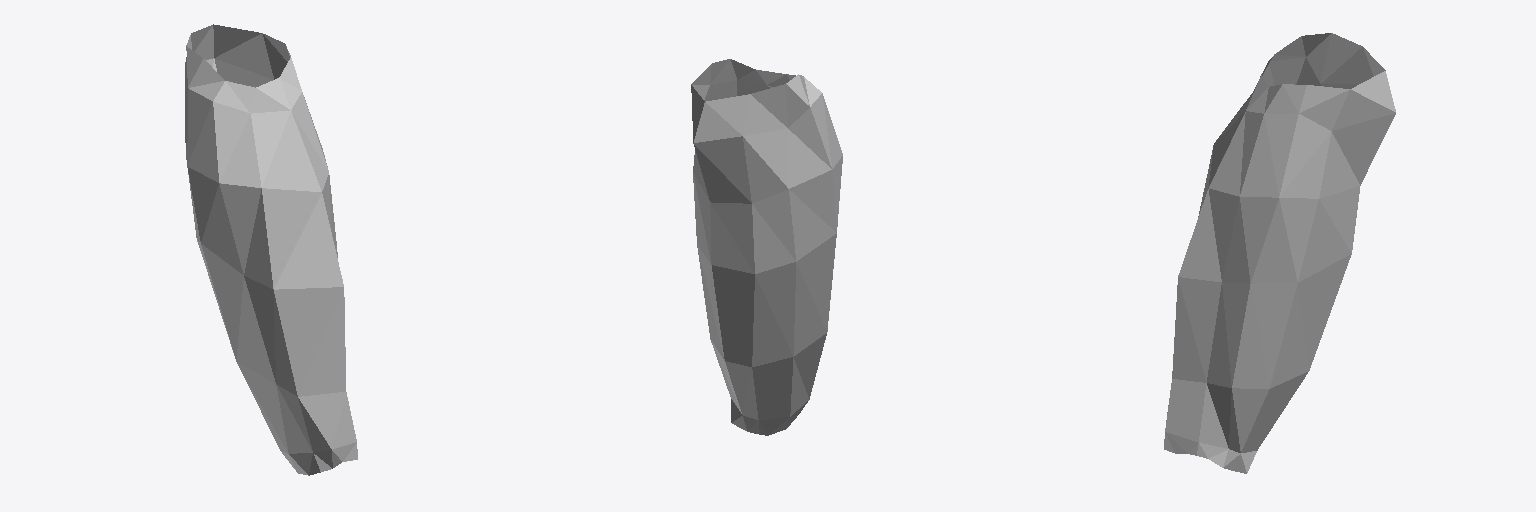
The model's file is Arm_Lower_Right.obj.
3 views of the same model, side by side, from view 1: azimuth 30°, elevation 25°; view 2: azimuth 150°, elevation 25°; view 3: azimuth 270°, elevation 25° (orthographic).
Parts seen in each view (by area): view 1: Arm_Lower.001_Cube.003; view 2: Arm_Lower.001_Cube.003; view 3: Arm_Lower.001_Cube.003.
Part boxes in pixels (bbox=[...]): Arm_Lower.001_Cube.003: bbox=[185, 24, 357, 475]; Arm_Lower.001_Cube.003: bbox=[691, 59, 842, 435]; Arm_Lower.001_Cube.003: bbox=[1164, 33, 1395, 473].
Bounding box in the file's own units: 2.33 × 6.76 × 3.53.